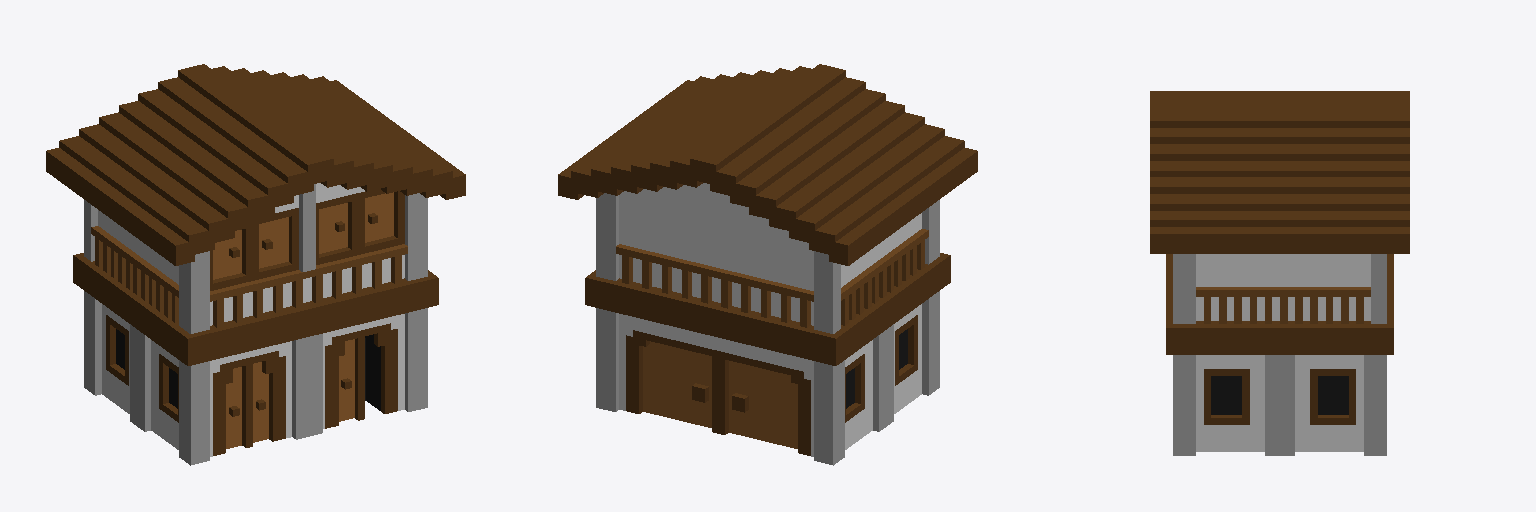
3 views of the same model, side by side, from view 1: azimuth 30°, elevation 25°; view 2: azimuth 150°, elevation 25°; view 3: azimuth 270°, elevation 25° (orthographic).
Parts seen in each view (by area): view 1: object 1; view 2: object 1; view 3: object 1.
Part boxes in pixels (x1,y1,x2,y2): object 1: (46, 64, 465, 465); object 1: (558, 64, 977, 465); object 1: (1150, 91, 1409, 455).
Bounding box in the file's own units: 4.4 × 4.1 × 3.4.
Materials: 1 (1 with a texture image).